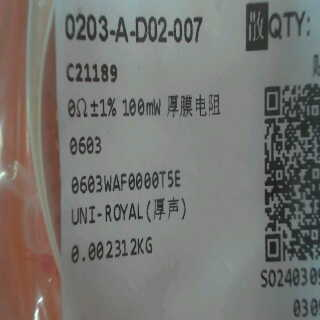0R: (66, 93, 124, 161)
